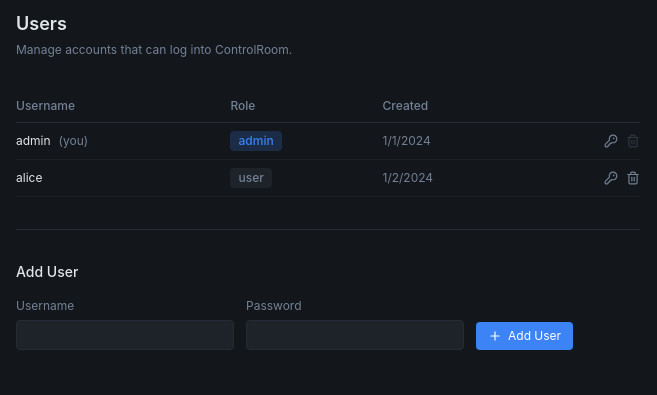
Scenario: UsersPage › shows error when delete fails
Expected: the text "alice" is shown, [16,160,230,196]
Click the button titled "Delete user" in the row of "alice" at (633, 178), box [626,171,640,185]
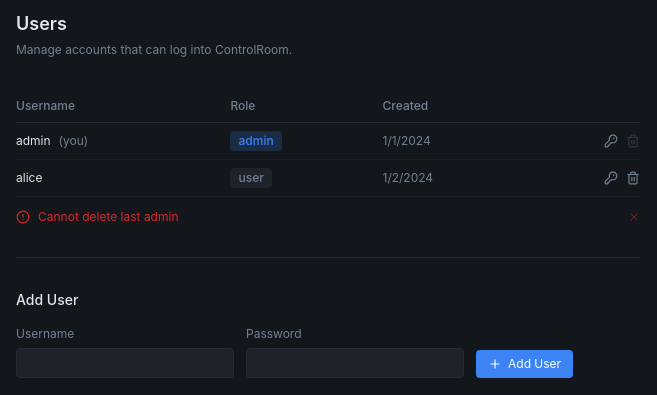
Result: the text "Cannot delete last admin" is shown at [38,209,178,224]
